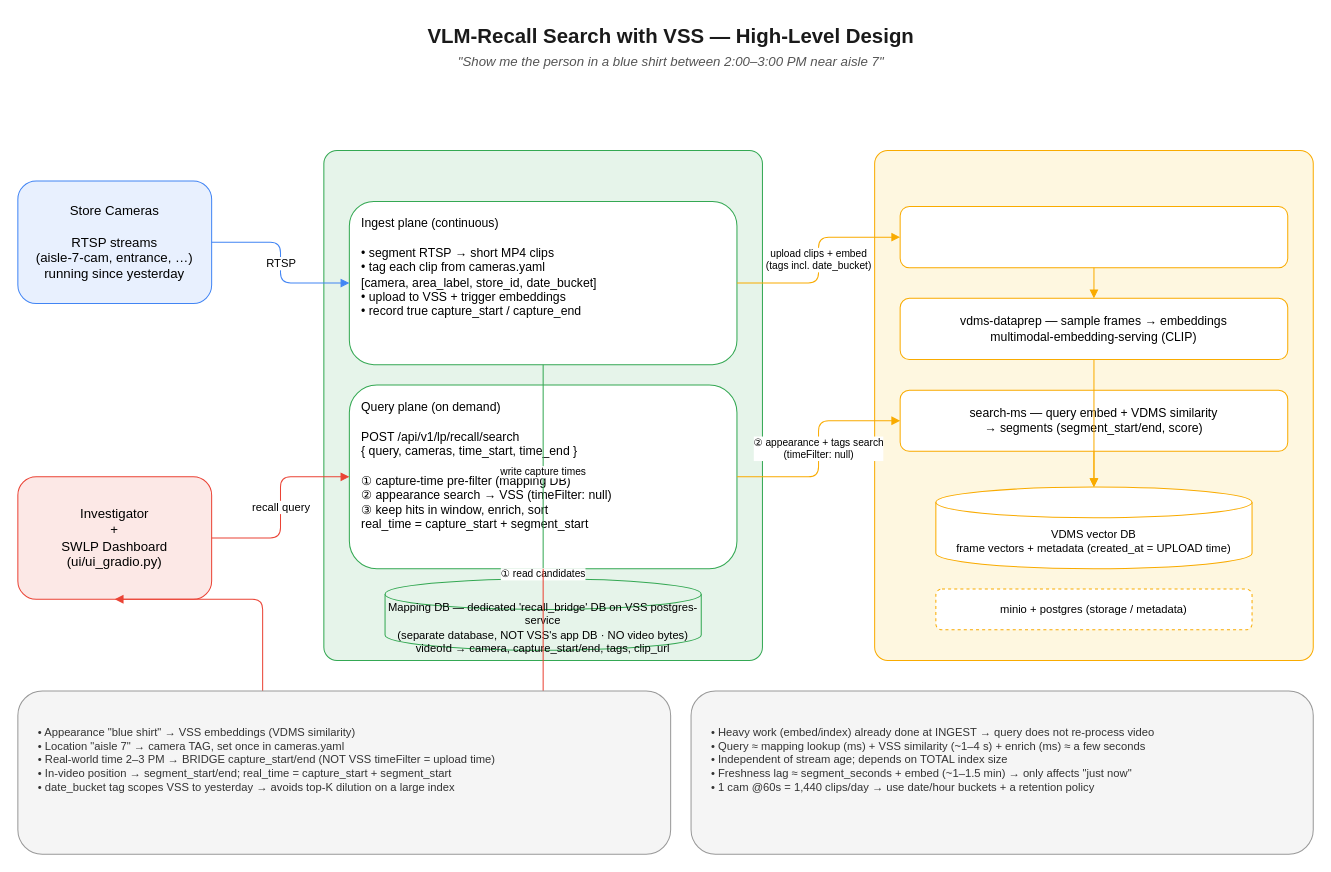
Some shapes in this 1331 by 872 pixel diagram are drawn without their labels. The shapes that lost their labels are listed below. From the top down, each one's box as (x1, y1, x2, y2) in pixels, then its label:
(899, 206, 1288, 268): pipeline-manager — /manager/* API upload · embed · search (nginx :12345)
(323, 149, 762, 660): vss-recall-bridge (the one new service)
(874, 149, 1313, 660): Stock VSS Search Stack (unchanged)
(17, 690, 671, 854): Three axes of the query
(690, 690, 1313, 854): Latency (querying yesterday's data)
